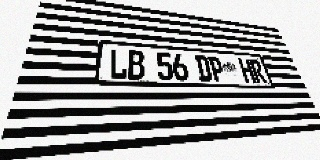5: (156, 52, 174, 81)
6: (171, 53, 189, 81)
B: (128, 50, 145, 80)
D: (194, 55, 213, 81)
H: (238, 58, 256, 83)
L: (109, 48, 127, 79)
P: (207, 56, 226, 82)
R: (249, 59, 267, 83)
